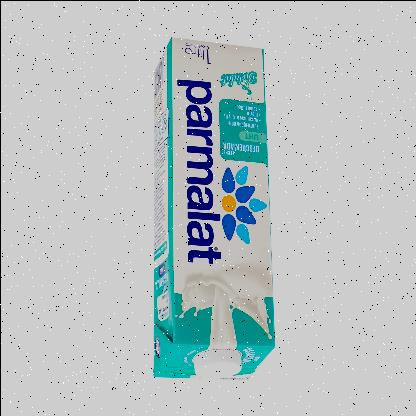Others: (147, 31, 278, 386)
